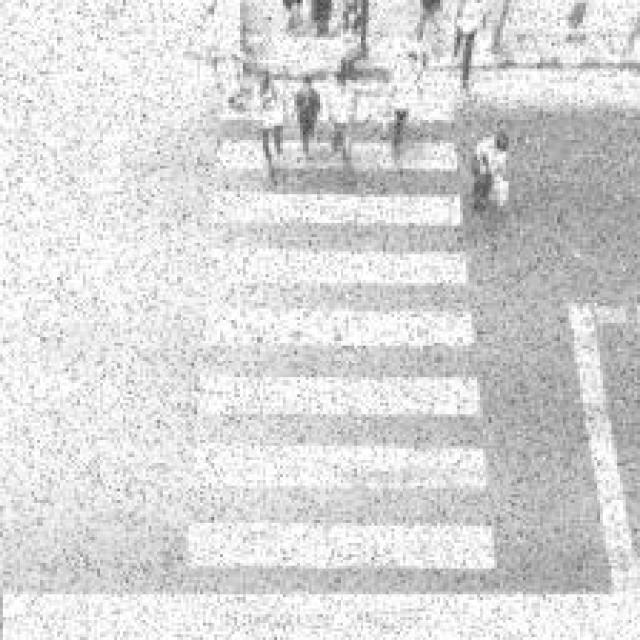crosswalk: (182, 78, 502, 572)
